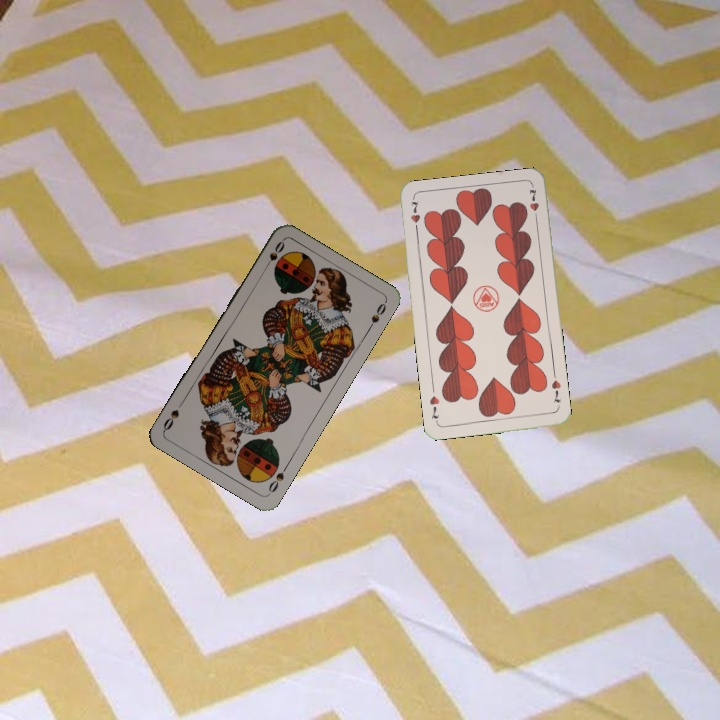H7: (407, 197, 422, 236), (547, 376, 563, 405)
SO: (260, 237, 287, 274), (264, 460, 291, 497)
